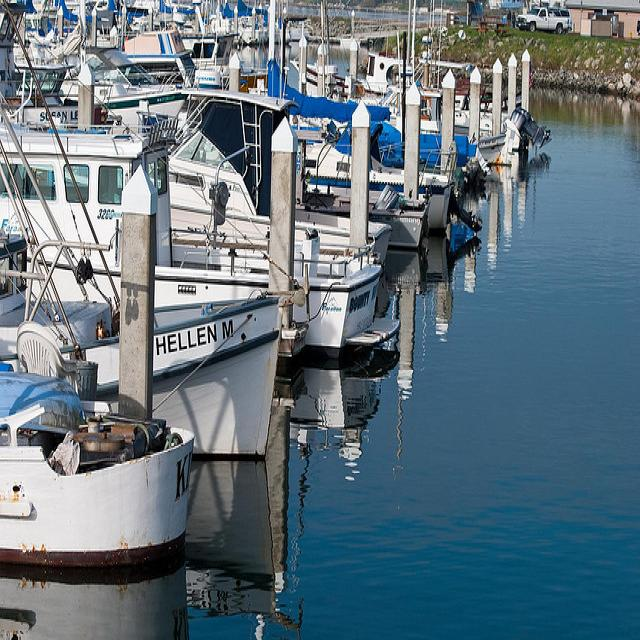Vehicle: (516, 5, 570, 33)
